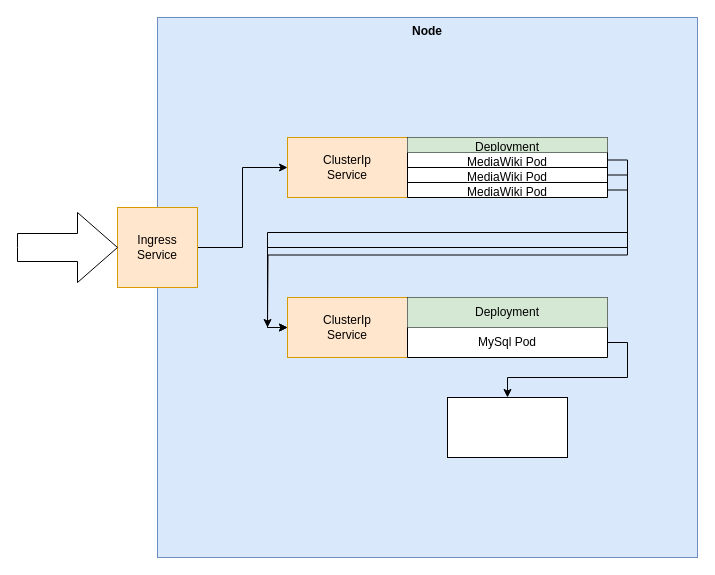
Some shapes in this 715 by 575 pixel diagram are drawn without their labels. The box of each missing label's shape, as (x1, y1, x2, y2) in pixels:
Mysql PVC: (446, 396, 568, 458)
Traffic: (16, 212, 118, 282)
